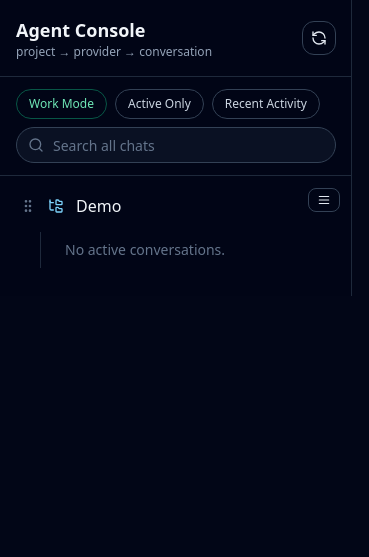
Scenario: Start (provider-neutral new chat) › sends the typed prompt for the project and closes the box once the chat is created
Click the button named "Project actions for Demo": point(324, 200) [308, 188, 340, 212]
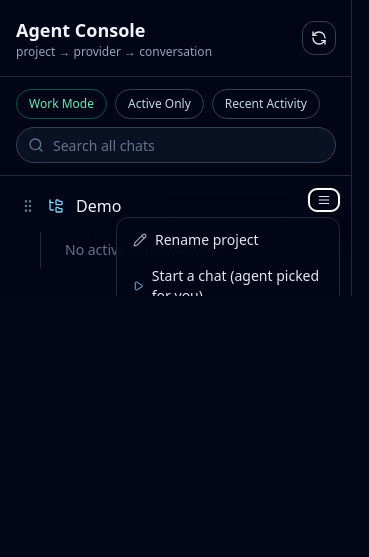
Click the button "Start a chat (agent picked for you)": point(228, 286) [121, 258, 335, 314]
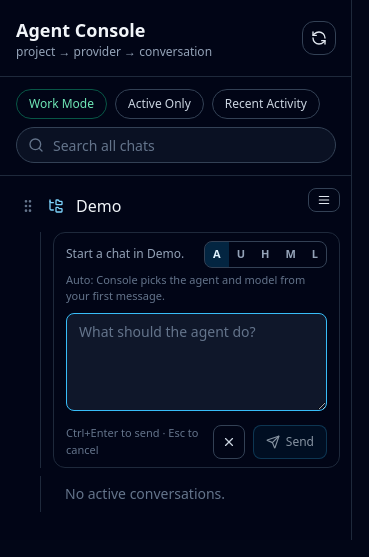
Expected: the button "Send" is disabled, [253, 424, 327, 458]
In the text box named "First message for Demo": point(196, 362) [66, 312, 327, 410], type "Fix the login bug"
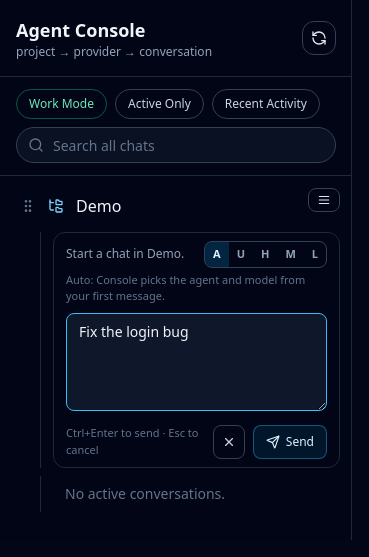
Click the button "Send": point(290, 442) [253, 424, 327, 458]
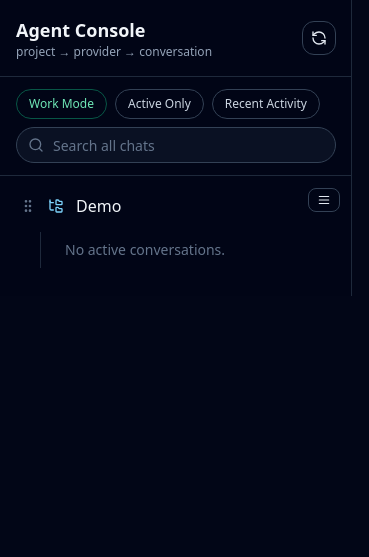
Expected: the element with test id "start-composer" is gone
